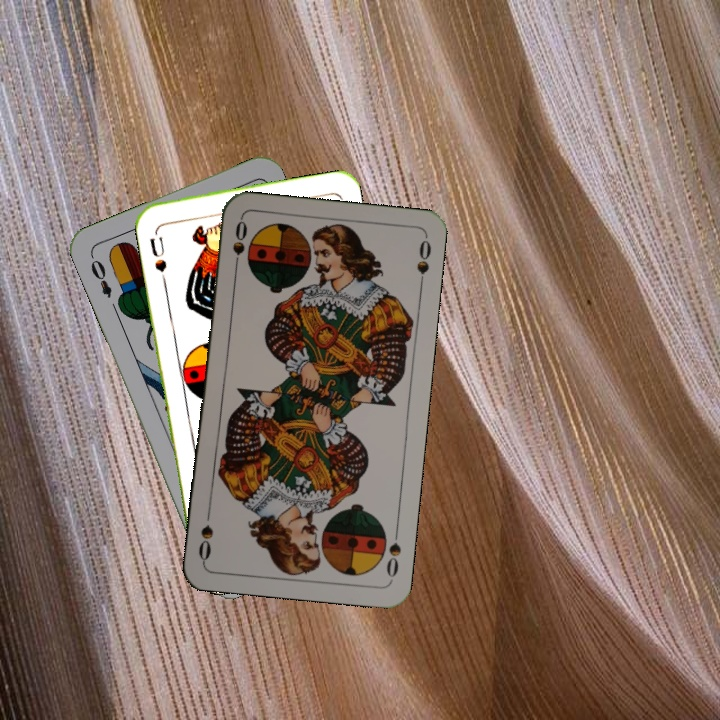EO: (86, 251, 115, 301)
SO: (228, 216, 250, 275), (382, 523, 403, 582)
SU: (145, 225, 170, 284)
